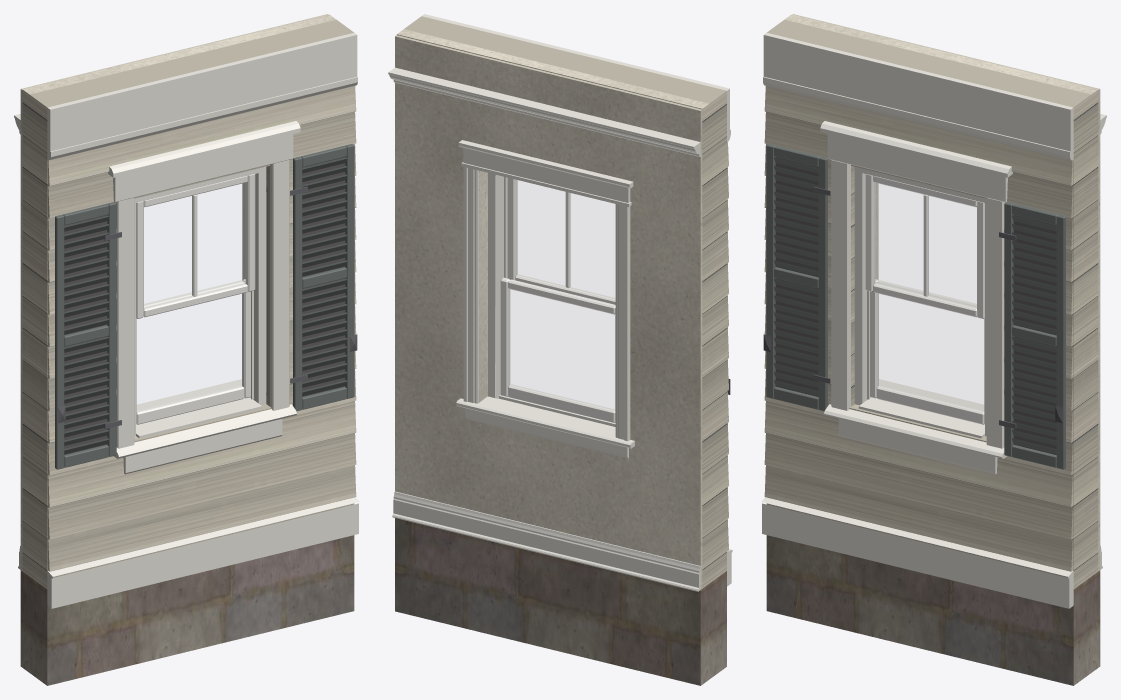
Rendered from h_win0.glb.
3 renders of one model, left to right at view 1: azimuth 30°, elevation 25°; view 2: azimuth 150°, elevation 25°; view 3: azimuth 330°, elevation 25°, orthographic.
Visible parts, largest first — view 1: h_win0_siding, h_win0_trim, h_win0_shutter, h_win0_stone, h_win0_glass, folha_glass, h_win0_dark, h_win0_sash, h_win0_frame, h_win0_plaster, folha_sash, molduras (+1 smaller); view 2: h_win0_plaster, h_win0_stone, molduras, h_win0_siding, folha_glass, h_win0_glass, h_win0_frame, folha_sash, h_win0_sash, h_win0_trim; view 3: h_win0_siding, h_win0_trim, h_win0_shutter, h_win0_stone, h_win0_glass, folha_glass, h_win0_dark, h_win0_sash, h_win0_frame, h_win0_plaster, folha_sash, molduras (+1 smaller).
Part boxes in pixels (x1=…): h_win0_siding: x1=22, y1=19, x2=356, y2=588; h_win0_trim: x1=47, y1=32, x2=359, y2=608; h_win0_shutter: x1=55, y1=144, x2=354, y2=469; h_win0_stone: x1=20, y1=535, x2=354, y2=685; h_win0_glass: x1=144, y1=183, x2=246, y2=307; folha_glass: x1=137, y1=294, x2=242, y2=411; h_win0_dark: x1=64, y1=157, x2=345, y2=454; h_win0_sash: x1=136, y1=174, x2=255, y2=318; h_win0_frame: x1=134, y1=166, x2=266, y2=436; h_win0_plaster: x1=20, y1=14, x2=335, y2=570; folha_sash: x1=136, y1=279, x2=250, y2=424; molduras: x1=14, y1=114, x2=243, y2=569; h_win0_plaster: x1=395, y1=29, x2=708, y2=589; h_win0_stone: x1=395, y1=518, x2=726, y2=685; molduras: x1=388, y1=67, x2=700, y2=591; h_win0_siding: x1=396, y1=16, x2=728, y2=588; folha_glass: x1=509, y1=289, x2=614, y2=409; h_win0_glass: x1=517, y1=180, x2=614, y2=298; h_win0_frame: x1=488, y1=173, x2=615, y2=426; folha_sash: x1=500, y1=277, x2=615, y2=422; h_win0_sash: x1=507, y1=177, x2=615, y2=304; h_win0_trim: x1=422, y1=14, x2=732, y2=586; h_win0_siding: x1=764, y1=19, x2=1098, y2=588; h_win0_trim: x1=761, y1=32, x2=1073, y2=608; h_win0_shutter: x1=766, y1=144, x2=1065, y2=469; h_win0_stone: x1=766, y1=535, x2=1100, y2=685; h_win0_glass: x1=874, y1=183, x2=976, y2=307; folha_glass: x1=878, y1=294, x2=983, y2=411; h_win0_dark: x1=775, y1=157, x2=1056, y2=454; h_win0_sash: x1=865, y1=174, x2=984, y2=318; h_win0_frame: x1=854, y1=166, x2=986, y2=436; h_win0_plaster: x1=785, y1=14, x2=1100, y2=570; folha_sash: x1=870, y1=279, x2=984, y2=424; molduras: x1=877, y1=114, x2=1106, y2=569.
Bounding box in the file's own units: 2 × 3.6 × 0.463.
Materials: 10 (3 with a texture image).
